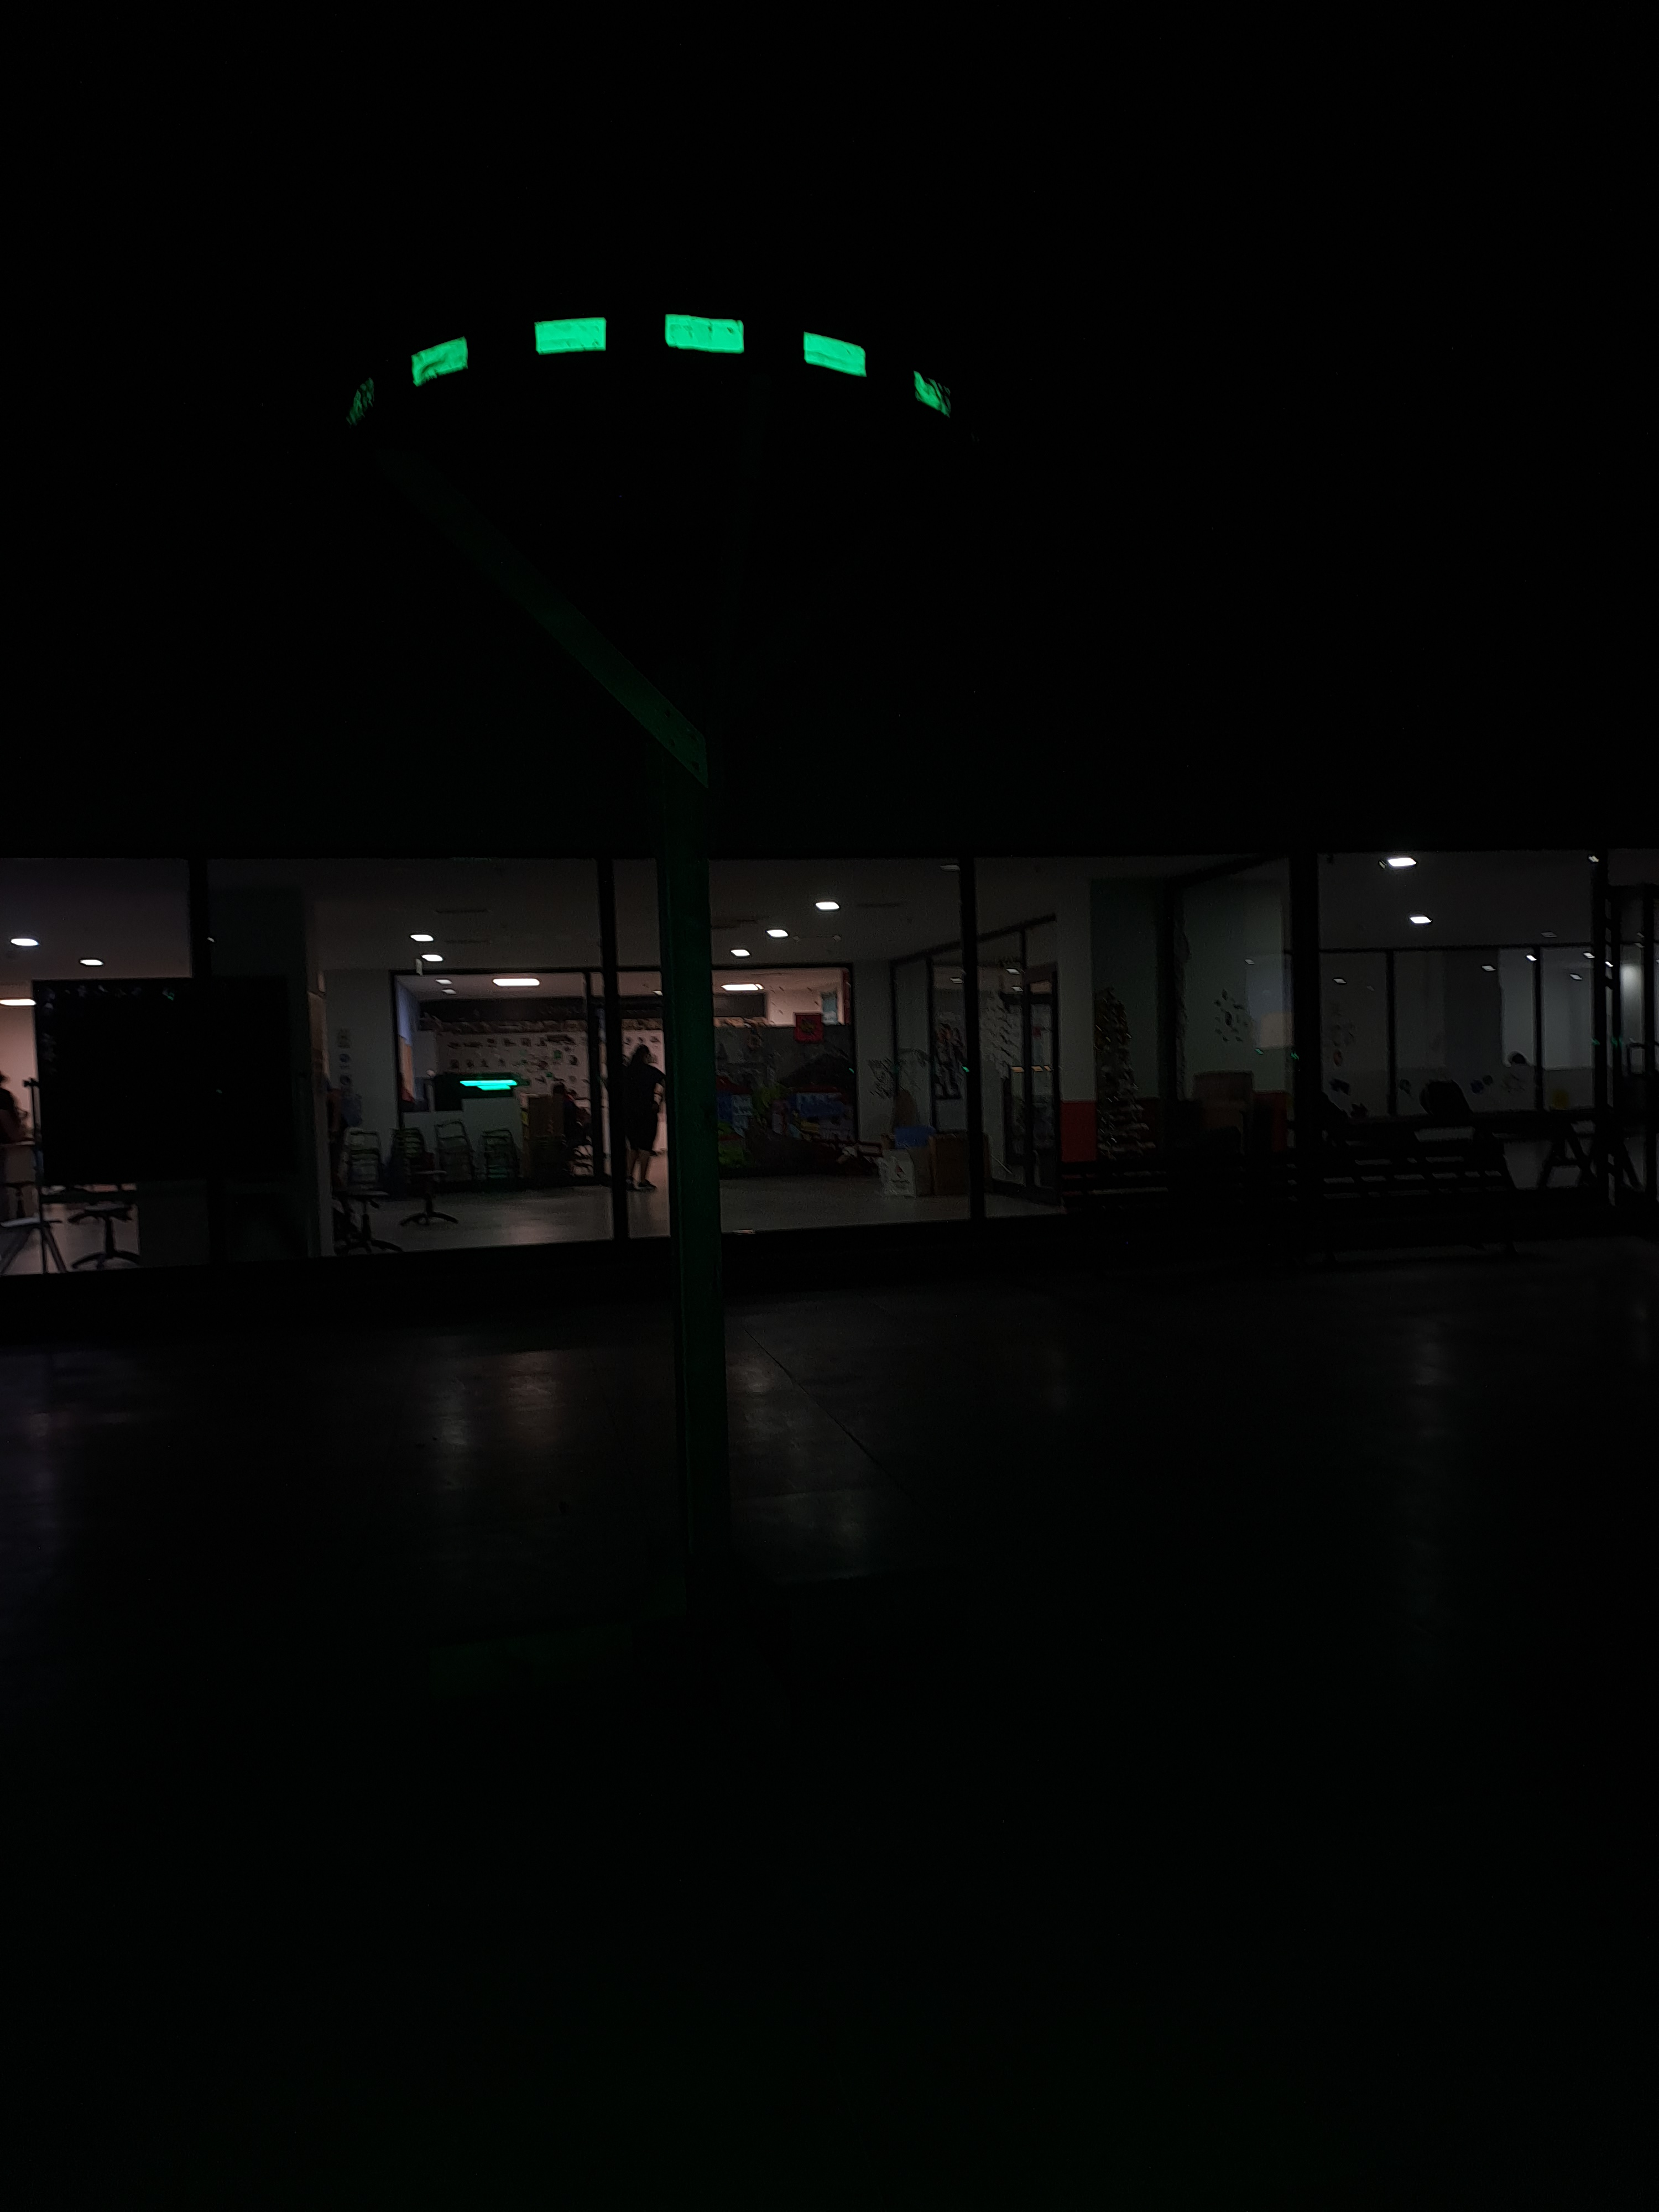hoop: (343, 307, 957, 430)
